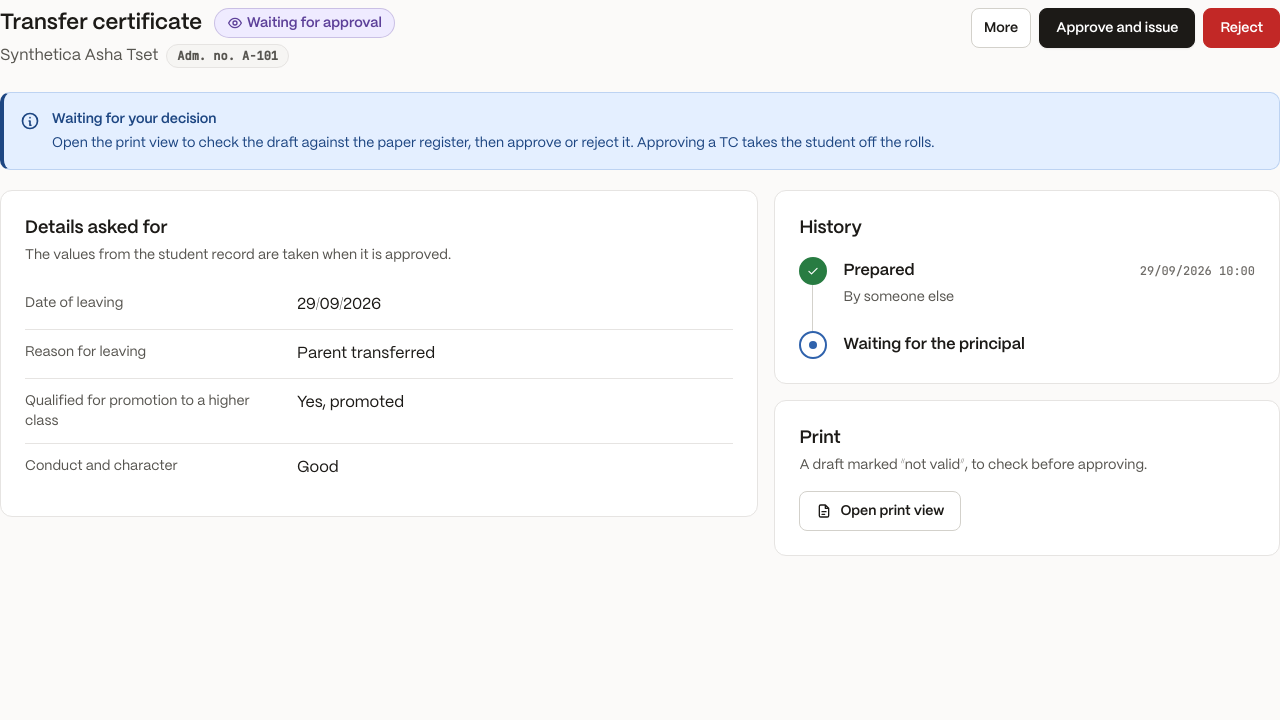
Scenario: certificate detail (US-1102..US-1107) › a draft changed since it was read says to reload and check it again (A-11)
The width and height of the screenshot is (1280, 720).
Click the button "Approve and issue" at (1117, 28), box [1039,8,1195,48]
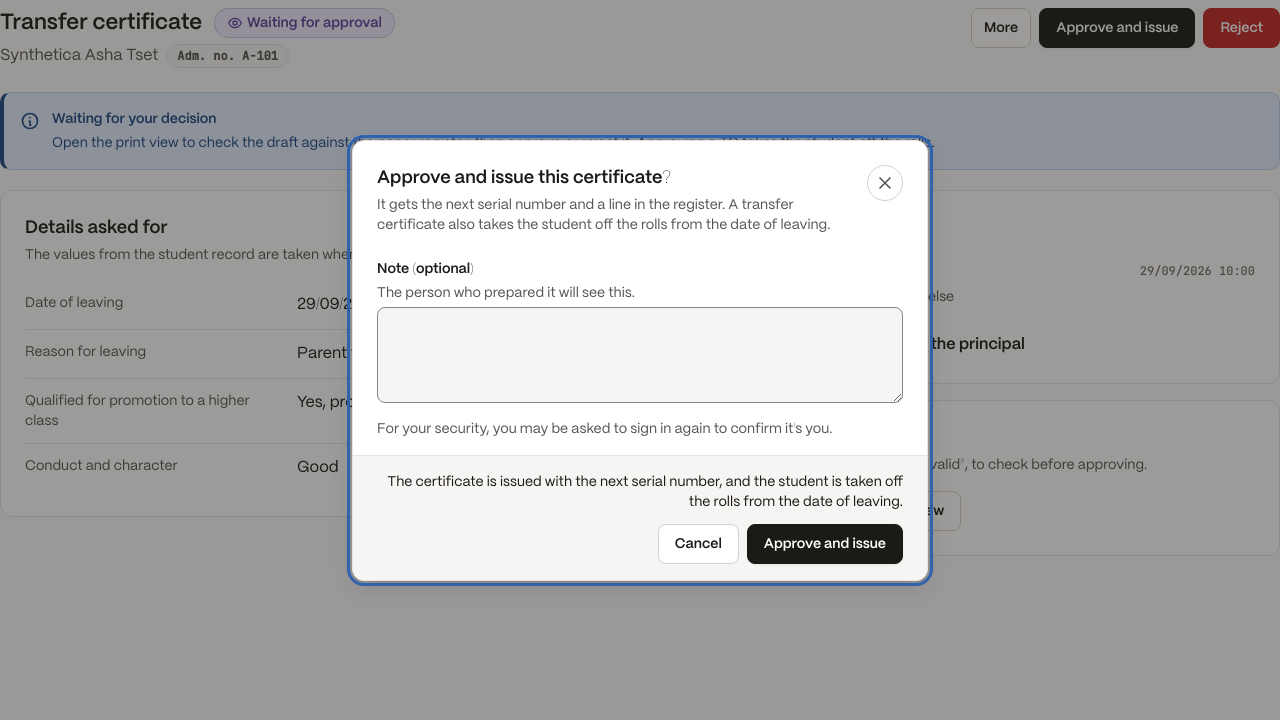
Click the 2nd button "Approve and issue" at (825, 544), box [747,524,903,564]
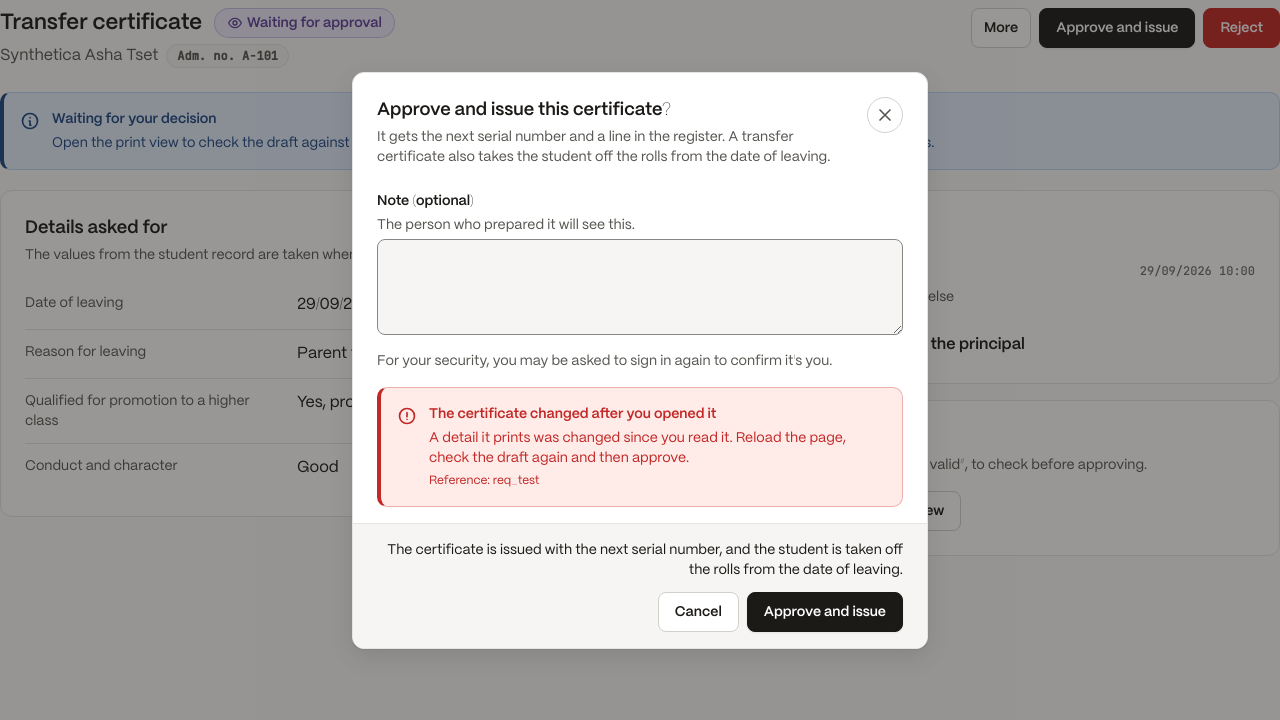
Expected: the text "The certificate changed after you opened it" is shown, [429,406,716,420]
